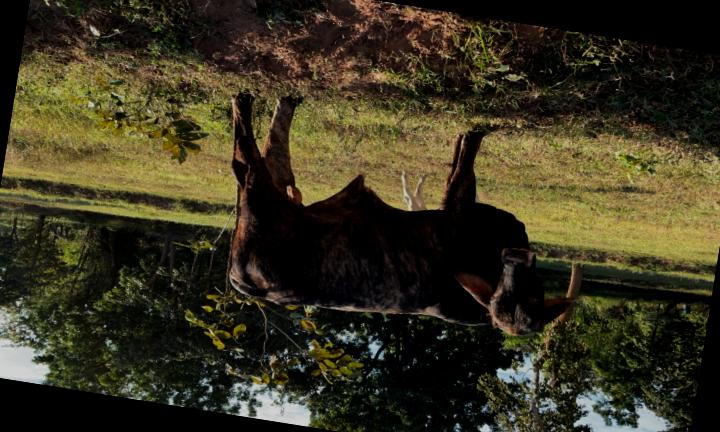Charolais: (230, 94, 575, 335)
